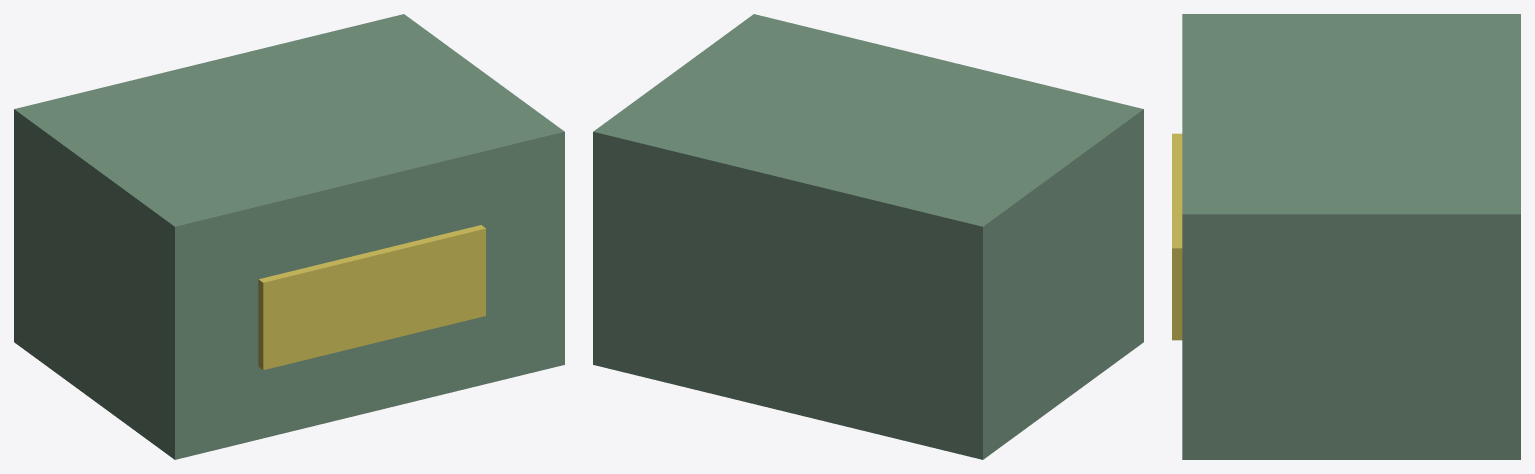
Rendered from Esya_Mermi.glb.
The picture shows the model from 3 angles, left to right: view 1: azimuth 30°, elevation 25°; view 2: azimuth 150°, elevation 25°; view 3: azimuth 270°, elevation 25°; orthographic projection. The views are drawn at different scales.
Visible parts, largest first — view 1: Esya_Mermi; view 2: Esya_Mermi; view 3: Esya_Mermi.
Part boxes in pixels (<box>): Esya_Mermi: <box>14,14,564,459</box>; Esya_Mermi: <box>593,14,1143,459</box>; Esya_Mermi: <box>1172,14,1520,459</box>.
Size of the model in its own units: 0.14 by 0.08 by 0.103.
